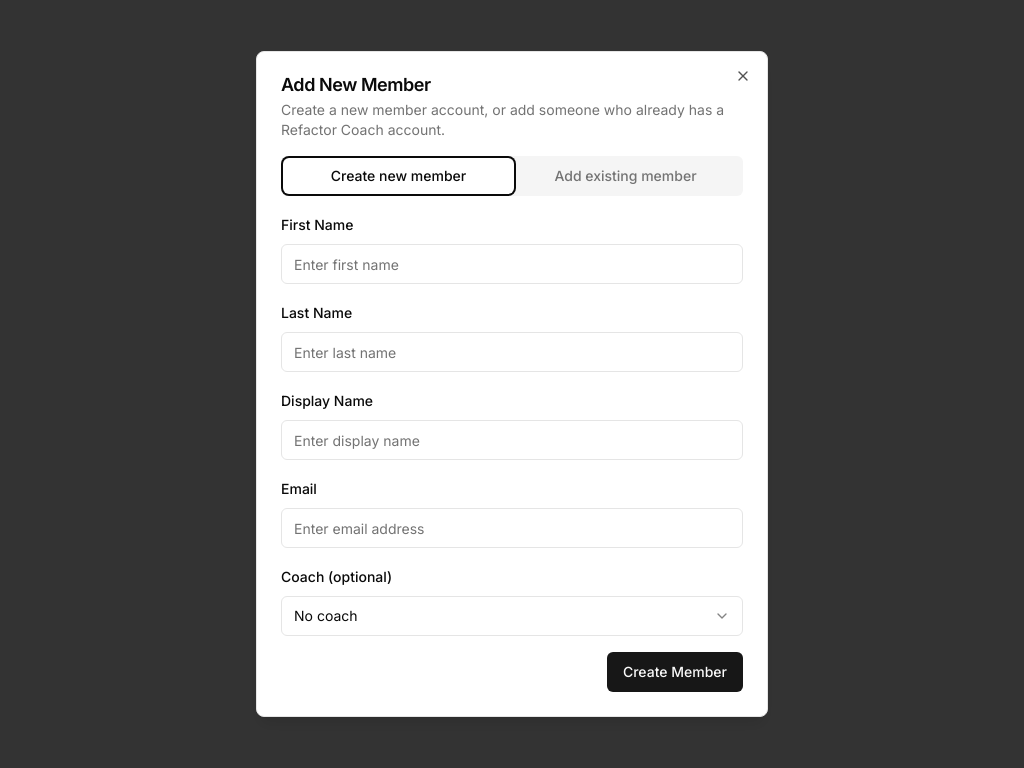
AddMemberDialog – pre-assigning a coach › offers the organization's existing members as coaches
Click the tab "Add existing member" at (626, 176), box [512,160,739,192]
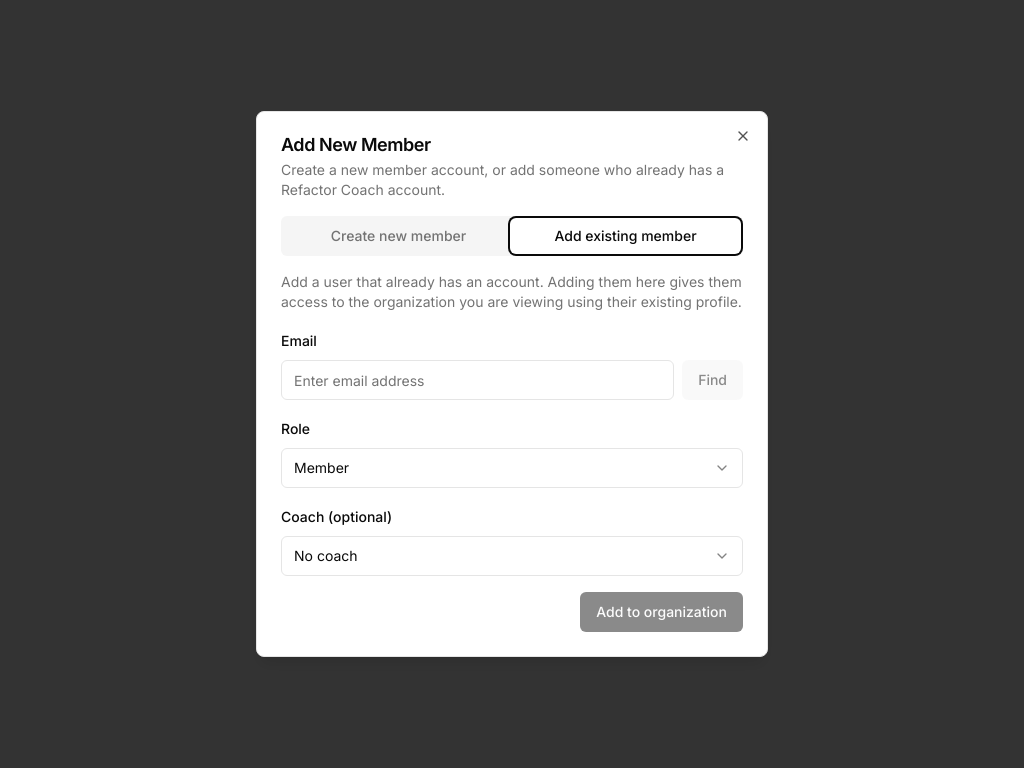
Type "ada@example.com" into the field labelled "Email" at (478, 380), box [281,360,674,400]
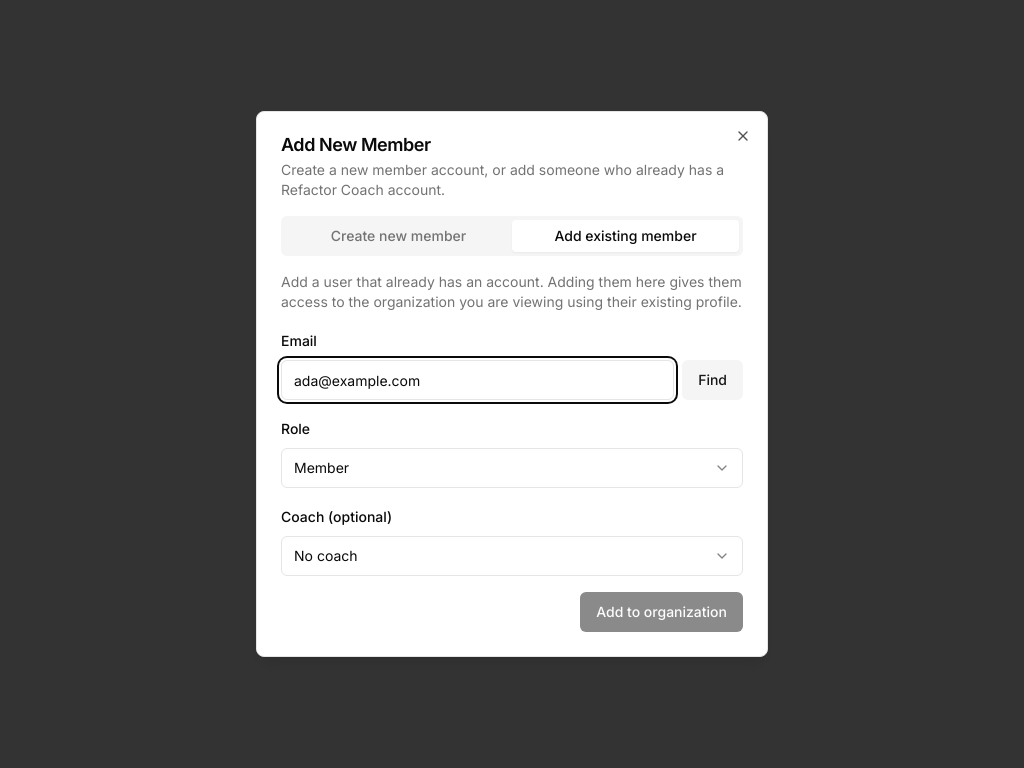
Click the button "Find" at (713, 380), box [682,360,743,400]
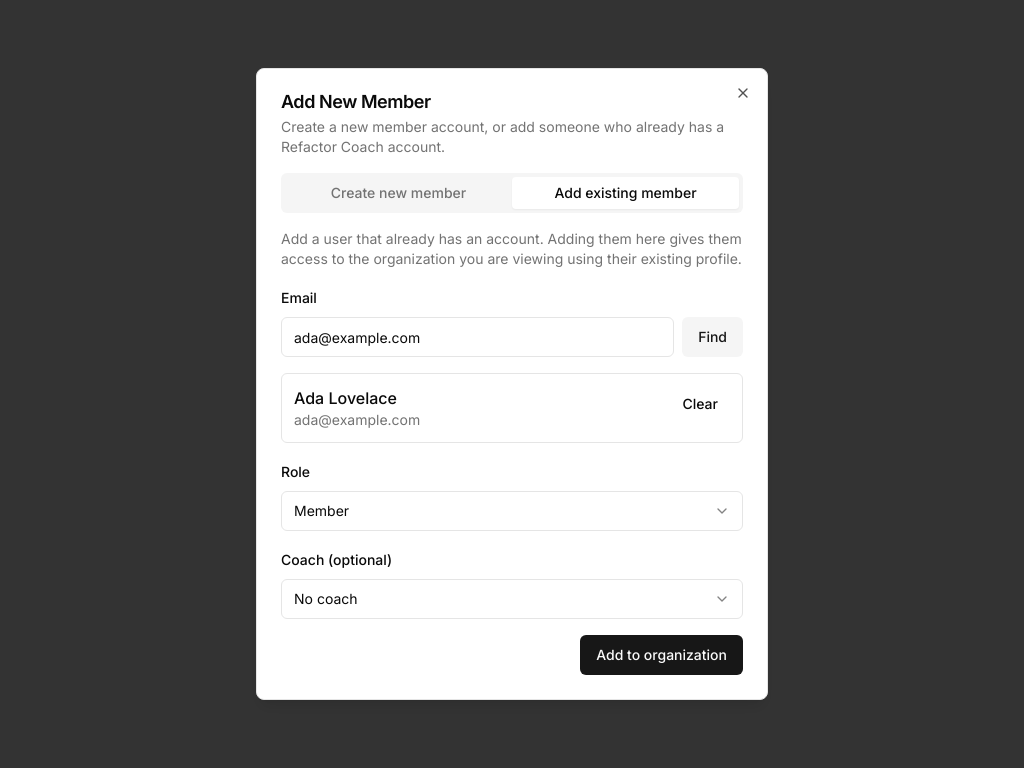
Check: the text "Ada Lovelace" is shown, box [294,388,397,408]
Click the dropdown named "Coach (optional)" at (326, 598), box [281,579,743,619]
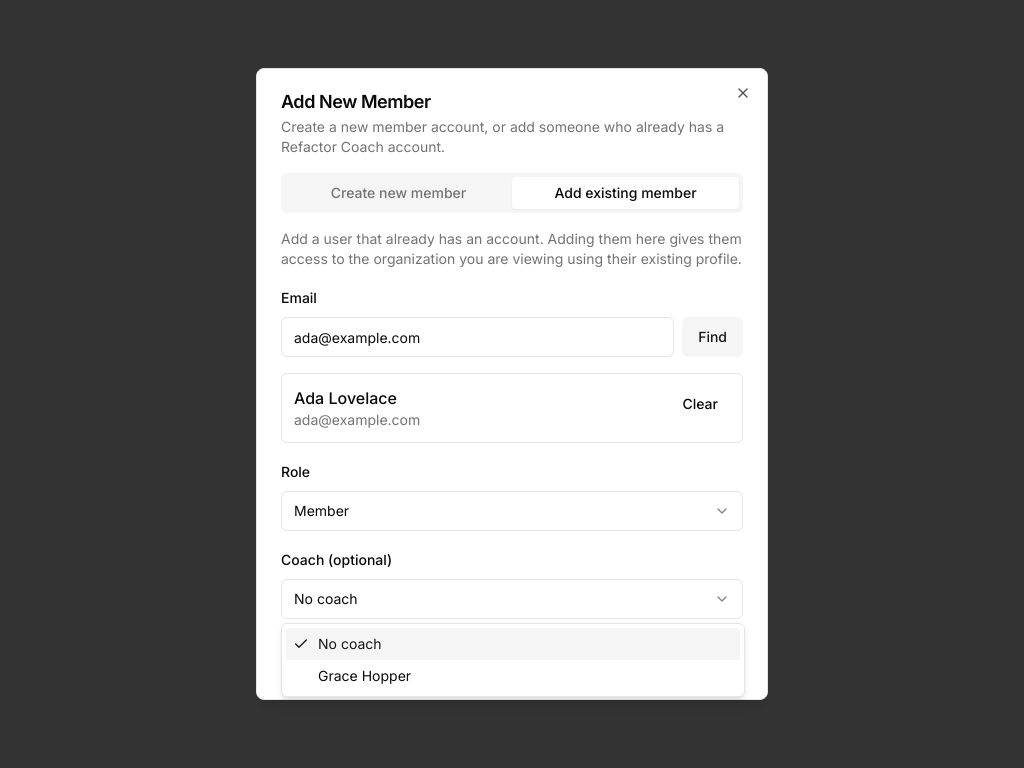
Check: the option "Grace Hopper" is shown, box [318,667,411,684]
